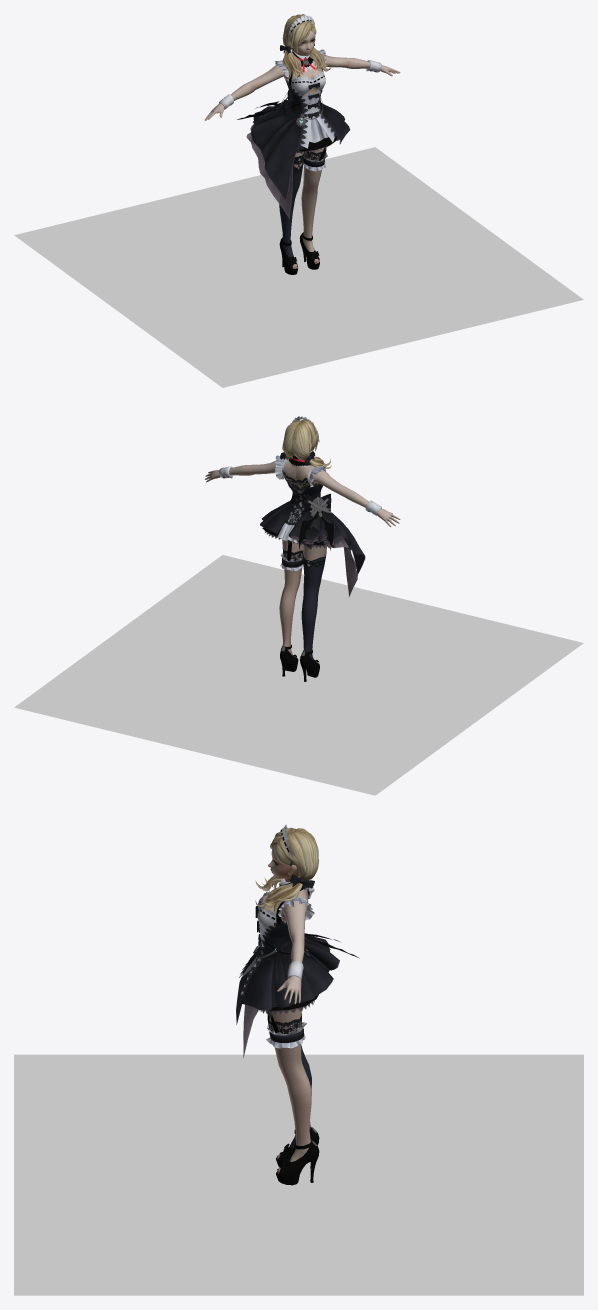
The model's file is animemaid.glb.
3 views of the same model, one above another, from view 1: azimuth 30°, elevation 25°; view 2: azimuth 150°, elevation 25°; view 3: azimuth 270°, elevation 25° (orthographic). The views are drawn at different scales.
Parts seen in each view (by area): view 1: Plane, Object_6; view 2: Plane, Object_6; view 3: Plane, Object_6.
Boxes of the visible parts, x1=… form: Plane: x1=14, y1=147, x2=583, y2=387; Object_6: x1=205, y1=14, x2=400, y2=274; Plane: x1=14, y1=555, x2=583, y2=795; Object_6: x1=204, y1=416, x2=400, y2=681; Plane: x1=14, y1=1054, x2=583, y2=1295; Object_6: x1=236, y1=825, x2=359, y2=1185.
Bounding box in the file's own units: 8 × 5.4 × 8.
7 materials, 6 textured.
